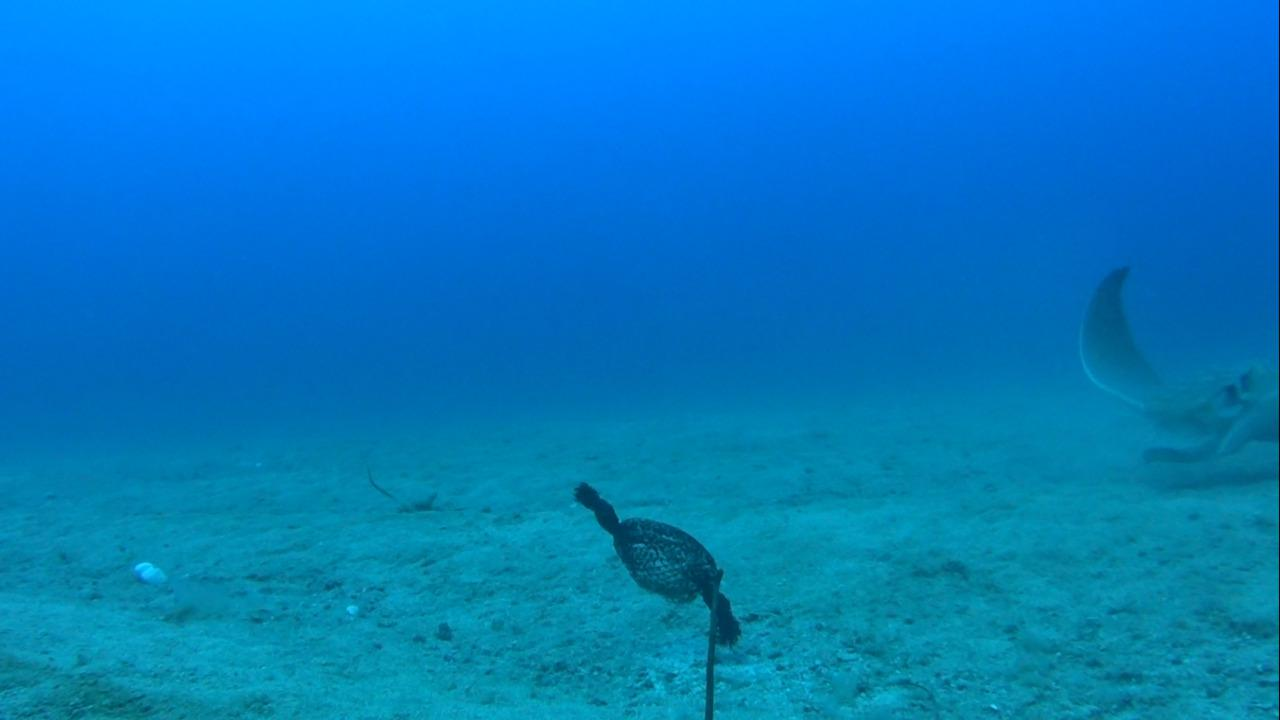myliobatis: (1069, 256, 1279, 470)
